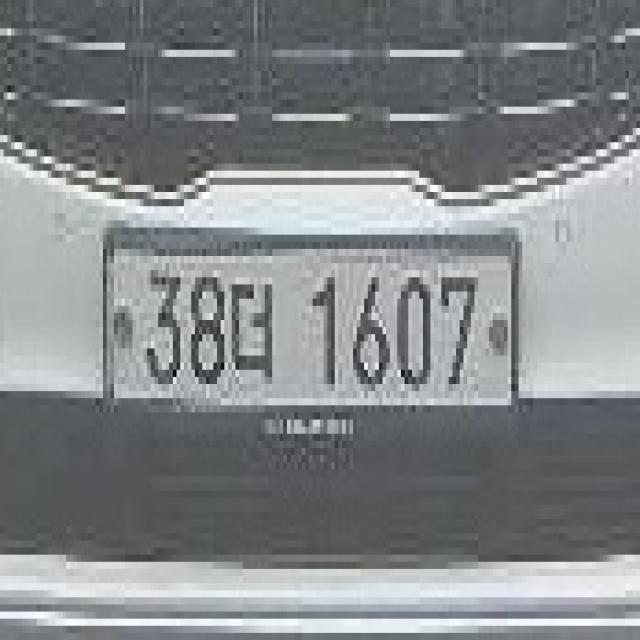0: (394, 263, 431, 391)
1: (309, 270, 338, 384)
3: (143, 263, 184, 384)
6: (353, 277, 390, 391)
7: (434, 270, 482, 391)
8: (184, 270, 228, 384)
deo: (232, 277, 276, 384)
license_plate: (103, 228, 522, 427)
